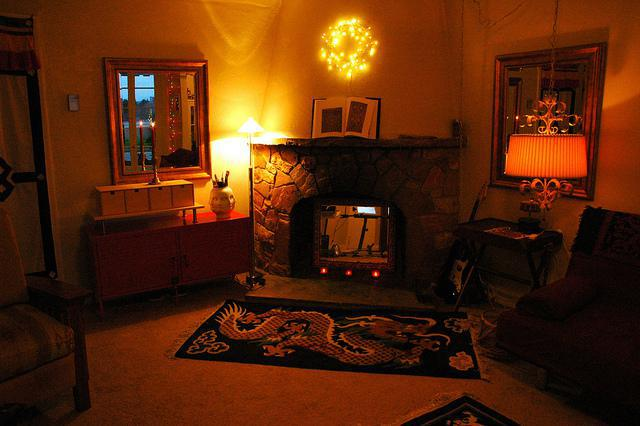tv: (316, 200, 390, 285)
